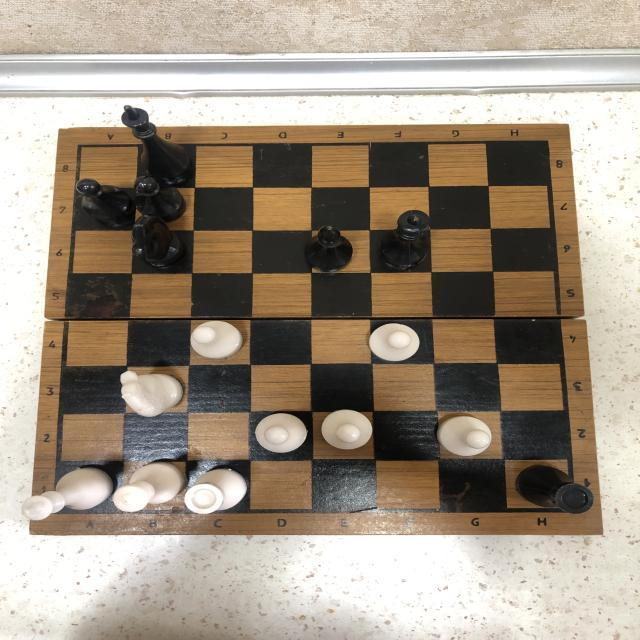chess-table-corners: (66, 134, 98, 159), (536, 128, 566, 152)
